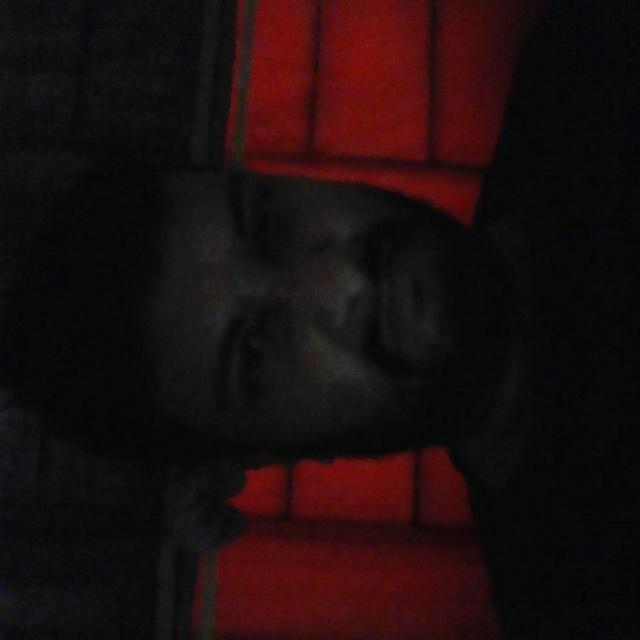Disgust: (86, 145, 534, 509)
